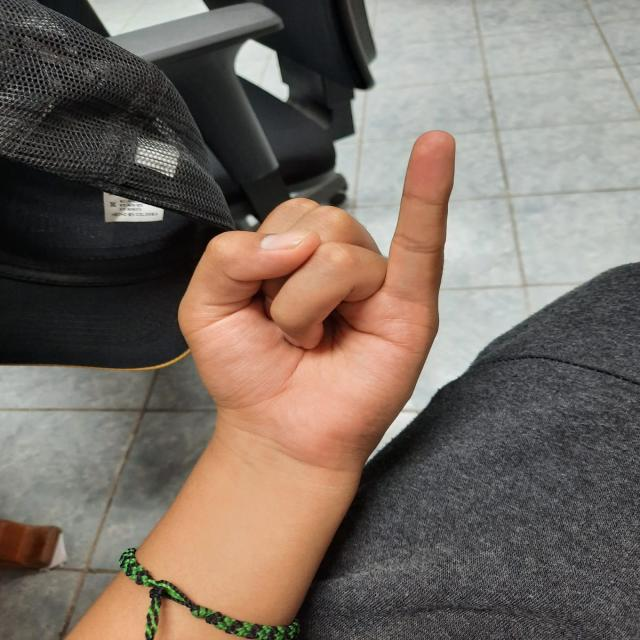Z: (160, 107, 492, 493)
